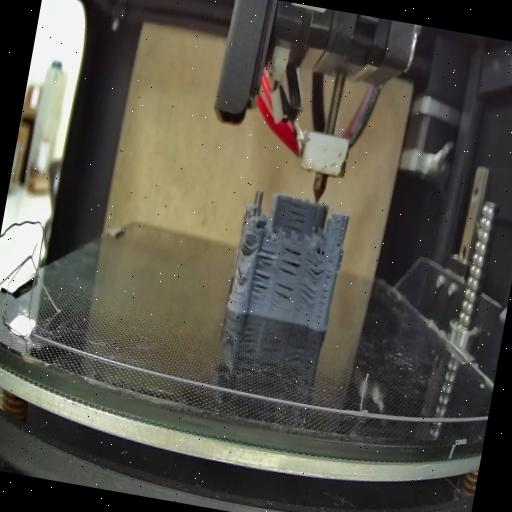cracks: (316, 252, 335, 320), (283, 199, 310, 234), (276, 246, 302, 278), (268, 281, 294, 313), (301, 252, 326, 280), (294, 282, 318, 310), (248, 270, 270, 299), (256, 244, 280, 268), (238, 232, 256, 256), (234, 264, 244, 279), (333, 234, 342, 250)
